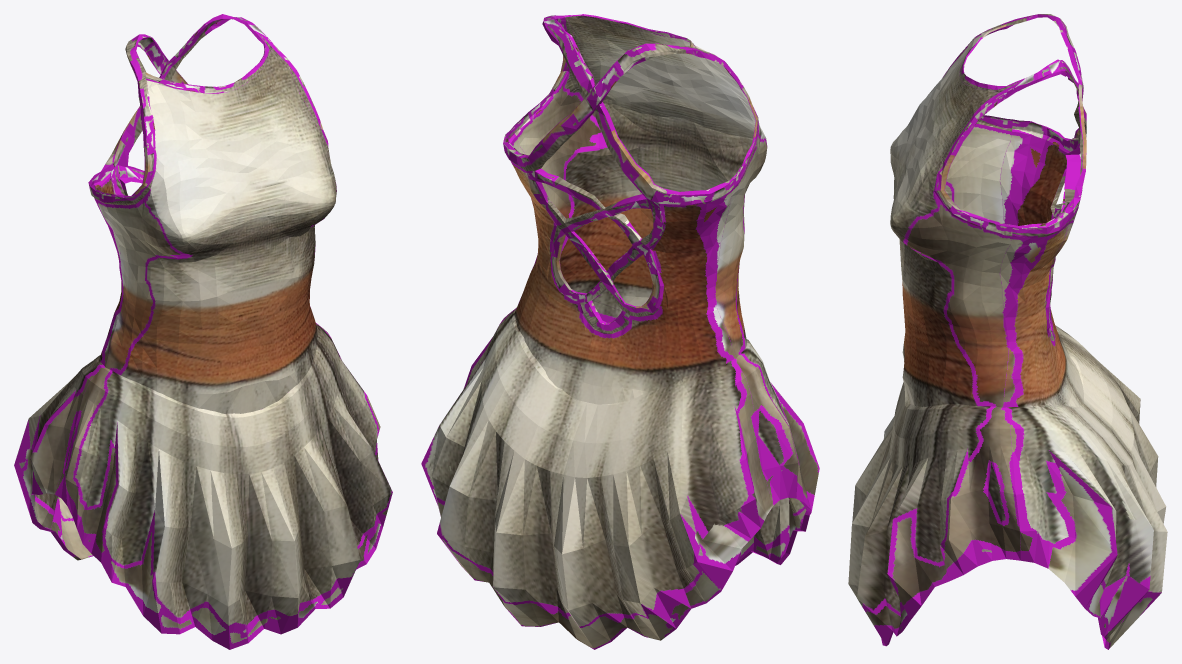
3 renders of one model, left to right at view 1: azimuth 30°, elevation 25°; view 2: azimuth 150°, elevation 25°; view 3: azimuth 270°, elevation 25°, orthographic. The views are drawn at different scales.
Bounding box in the file's own units: 0.5815 × 1.04 × 0.5063.
Materials: 1 (1 with a texture image).
